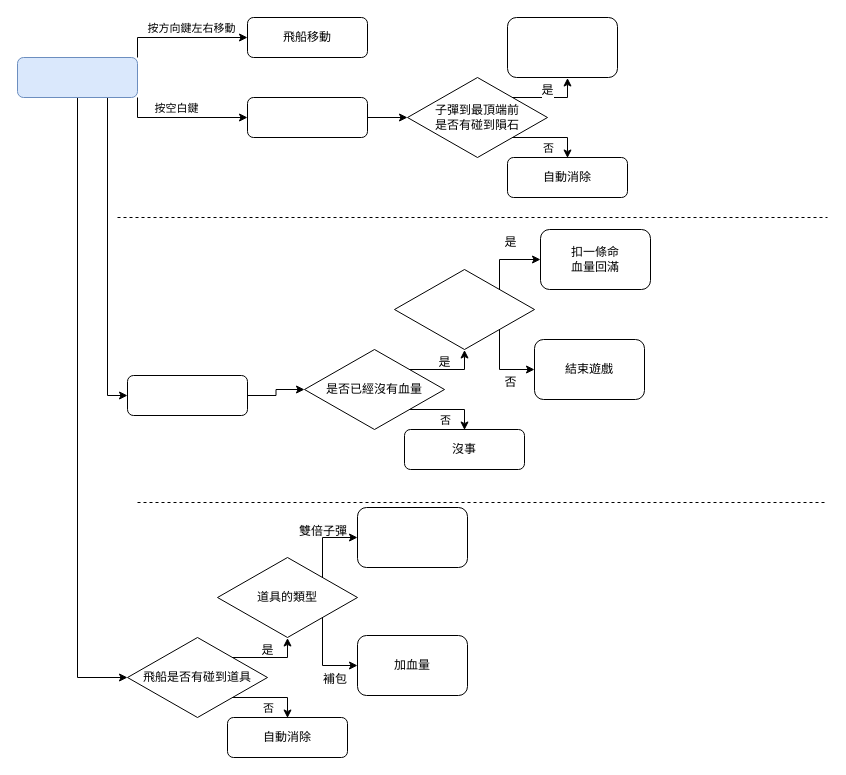
Some shapes in this 846 by 775 pixel diagram are drawn without their labels. Each missing label, with the centre of its shape:
"加分數 播放爆炸圖片與音效" goes at pixel 562 47.
"是否還有命 (有三條命)" goes at pixel 464 309.
"發射子彈" goes at pixel 307 117.
"發射雙倍子彈(5秒)" goes at pixel 412 537.
"遊戲開始" goes at pixel 77 77.
"飛船碰到隕石 扣除血量" goes at pixel 187 395.
